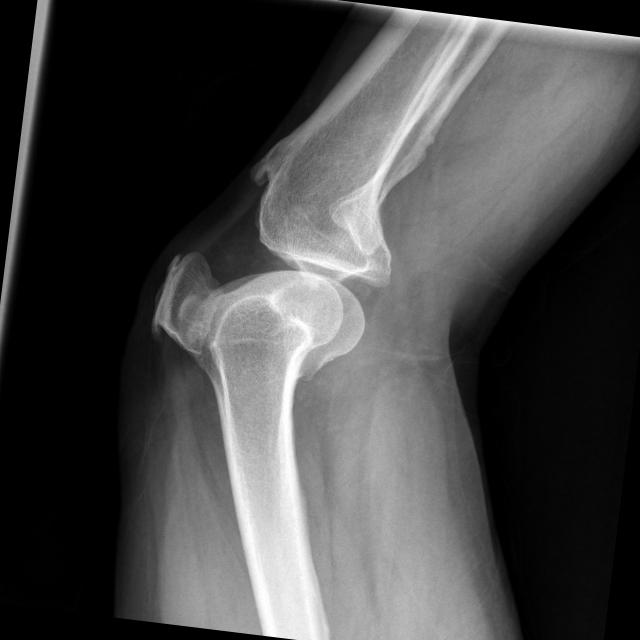Knee: (146, 156, 403, 388)
